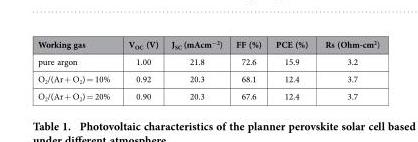table: (37, 37, 379, 102)
table column: (37, 37, 118, 102), (164, 37, 228, 102), (315, 37, 379, 102), (267, 37, 315, 102), (118, 37, 164, 102), (228, 37, 267, 102)
table column header: (37, 37, 379, 52)
table row: (37, 69, 379, 87), (37, 52, 379, 69), (37, 37, 379, 52), (37, 87, 379, 102)
